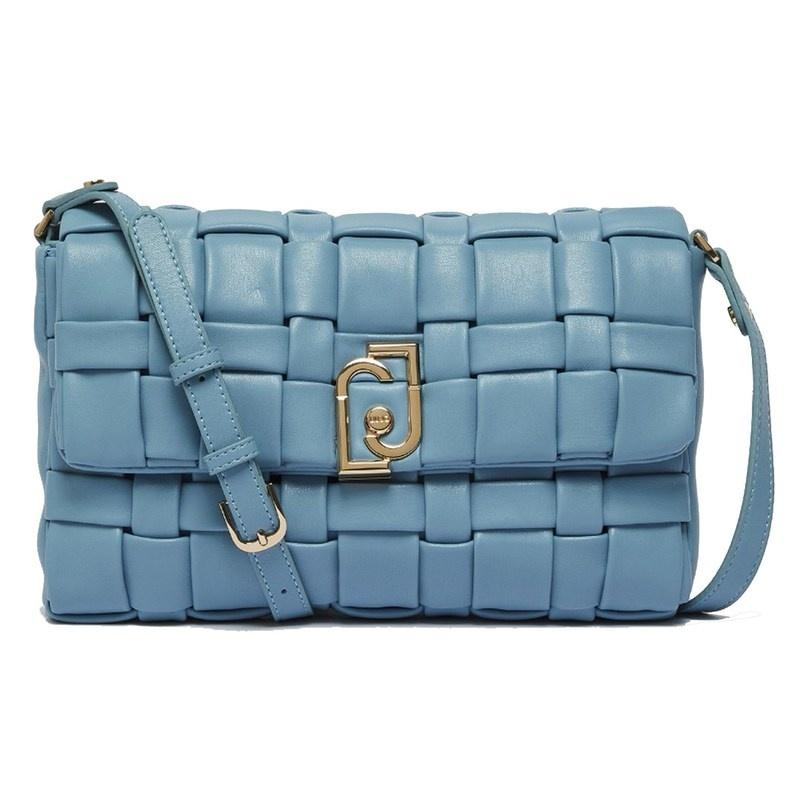LIU-JO: (334, 341, 424, 477)
